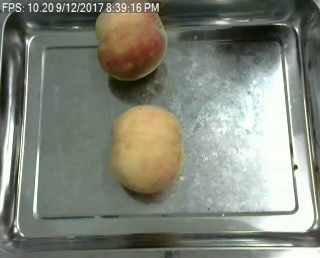Peach: (109, 104, 183, 195), (95, 0, 166, 81)
